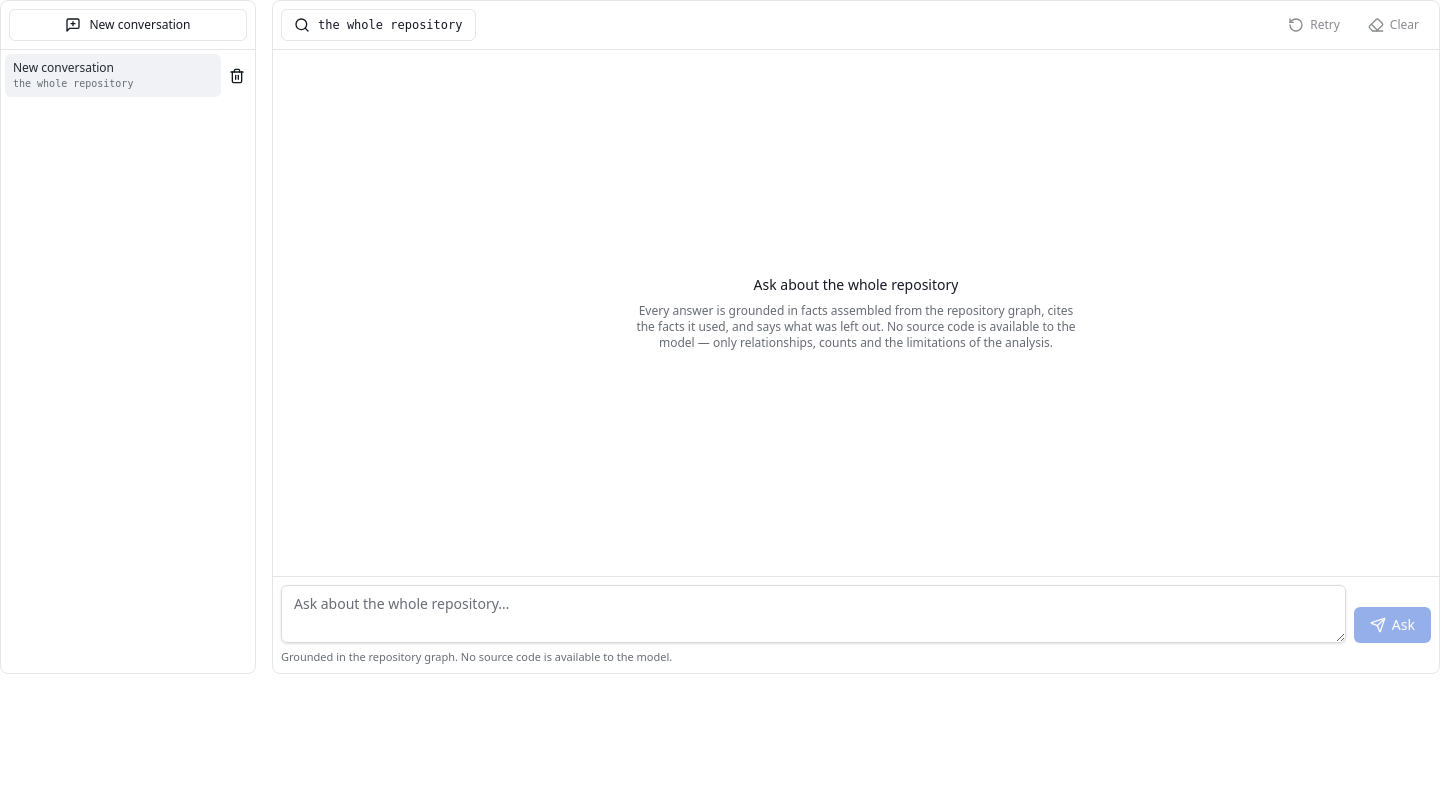
Scenario: asking › shows the question immediately
The image size is (1440, 810).
Step 1. Type "How many files?" into the text box named "Ask about the repository" → (813, 614), box [281,584,1346,642]
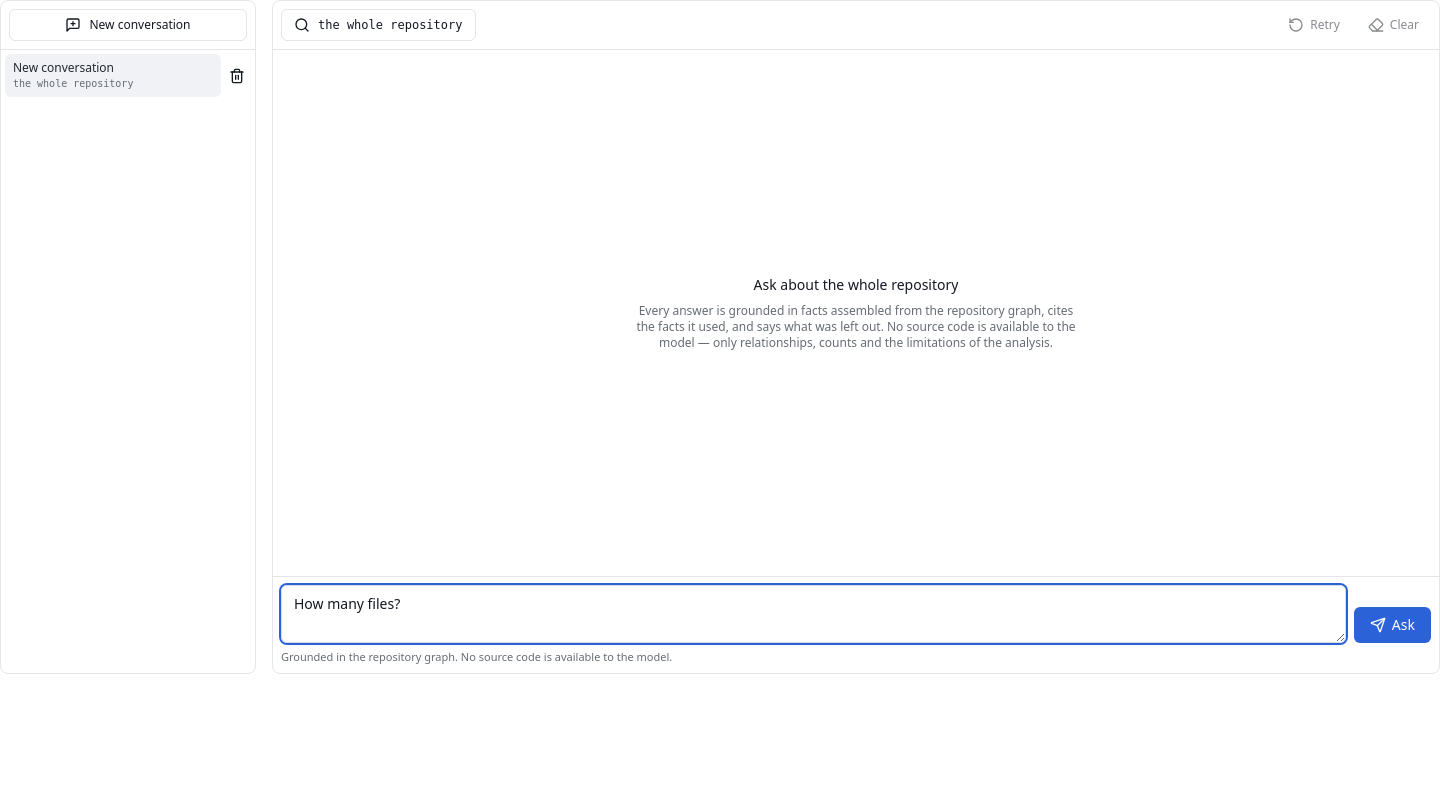
Step 2. Click the button "Ask" → (1392, 624), box [1354,606,1431,642]
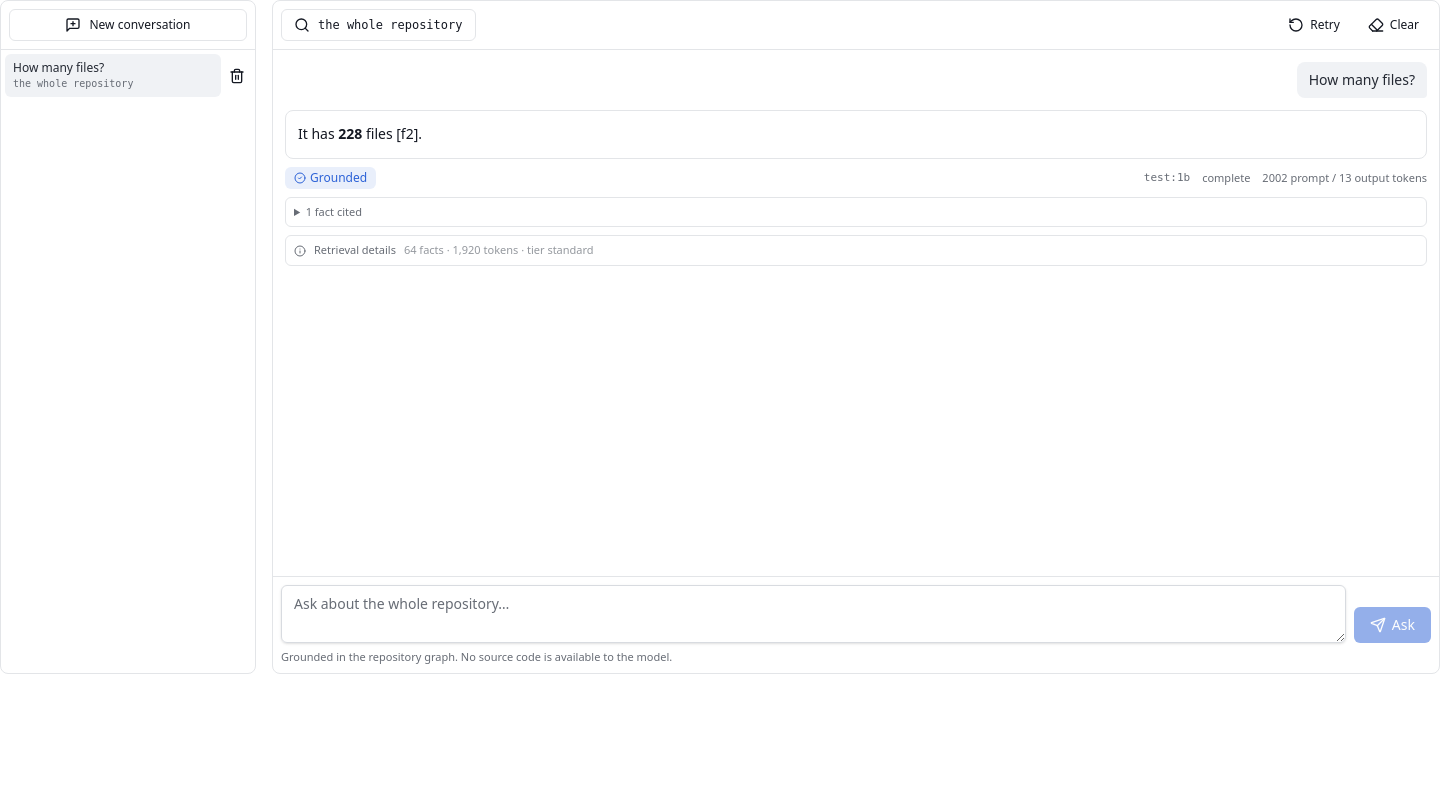
Check: the 2nd text "How many files?" is shown, box [1297,62,1427,98]
